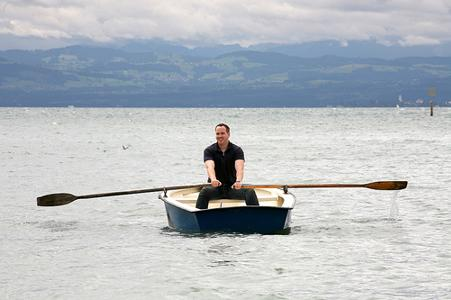person: (196, 123, 260, 211)
